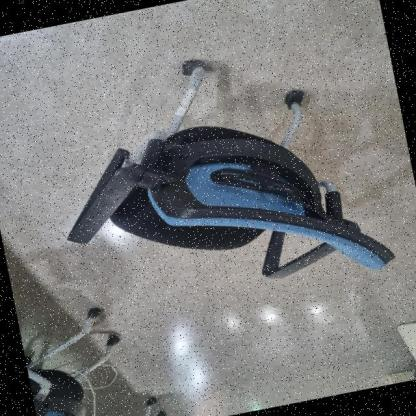Chair: (22, 6, 416, 361)
